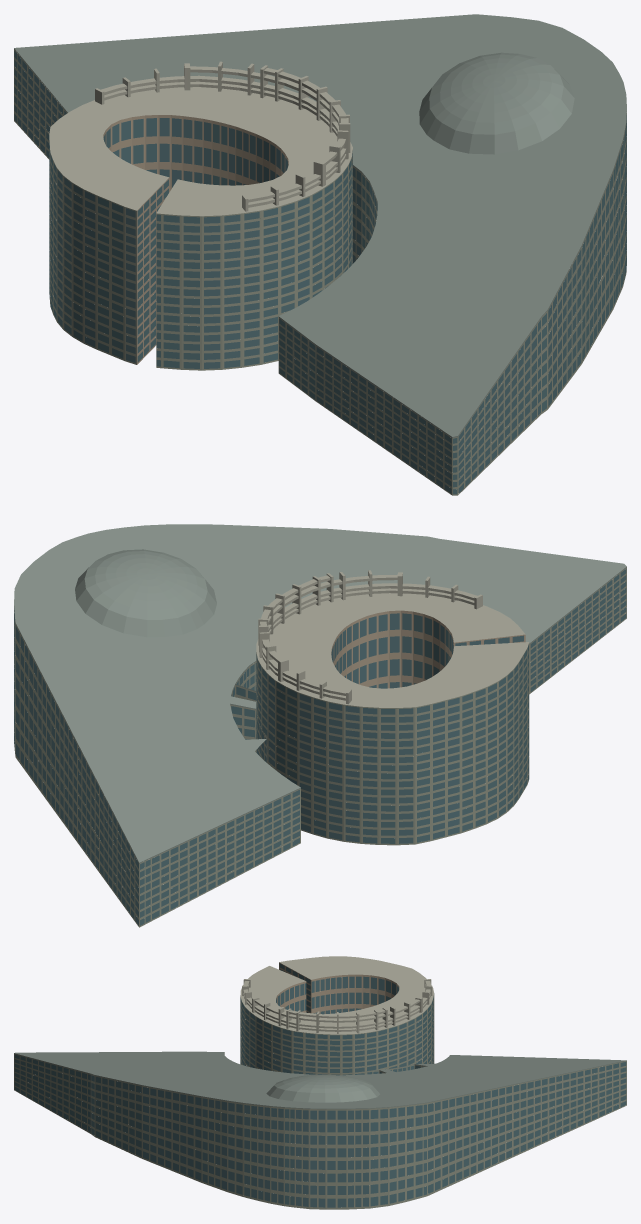
The model's file is parlement-europeen-louise-weiss-near.glb.
3 renders of one model, top to bottom at view 1: azimuth 30°, elevation 25°; view 2: azimuth 150°, elevation 25°; view 3: azimuth 270°, elevation 25°, orthographic. The views are drawn at different scales.
Parts seen in each view (by area): view 1: parlement-europeen-louise-weiss-0-roof, parlement-europeen-louise-weiss-0-glass, parlement-europeen-louise-weiss-0-frame, parlement-europeen-louise-weiss-0-concrete (×2), parlement-europeen-louise-weiss-0-sandstone; view 2: parlement-europeen-louise-weiss-0-roof, parlement-europeen-louise-weiss-0-glass, parlement-europeen-louise-weiss-0-frame, parlement-europeen-louise-weiss-0-concrete (×2), parlement-europeen-louise-weiss-0-sandstone; view 3: parlement-europeen-louise-weiss-0-glass, parlement-europeen-louise-weiss-0-frame, parlement-europeen-louise-weiss-0-roof, parlement-europeen-louise-weiss-0-concrete (×2), parlement-europeen-louise-weiss-0-sandstone.
Boxes of the visible parts, box(x1,y1,x2,y2) form: parlement-europeen-louise-weiss-0-roof: box(14, 14, 626, 437); parlement-europeen-louise-weiss-0-glass: box(14, 51, 626, 494); parlement-europeen-louise-weiss-0-frame: box(14, 49, 626, 495); parlement-europeen-louise-weiss-0-concrete (×2): box(49, 61, 352, 216); parlement-europeen-louise-weiss-0-sandstone: box(103, 115, 288, 364); parlement-europeen-louise-weiss-0-roof: box(14, 524, 626, 863); parlement-europeen-louise-weiss-0-glass: box(14, 569, 626, 925); parlement-europeen-louise-weiss-0-frame: box(14, 567, 626, 927); parlement-europeen-louise-weiss-0-concrete (×2): box(256, 570, 529, 707); parlement-europeen-louise-weiss-0-sandstone: box(331, 610, 525, 725); parlement-europeen-louise-weiss-0-glass: box(14, 963, 626, 1207); parlement-europeen-louise-weiss-0-frame: box(14, 993, 626, 1209); parlement-europeen-louise-weiss-0-roof: box(14, 1051, 626, 1109); parlement-europeen-louise-weiss-0-concrete (×2): box(240, 956, 433, 1034); parlement-europeen-louise-weiss-0-sandstone: box(276, 962, 399, 1013).
Bounding box in the file's own units: 176 × 59.84 × 290.
